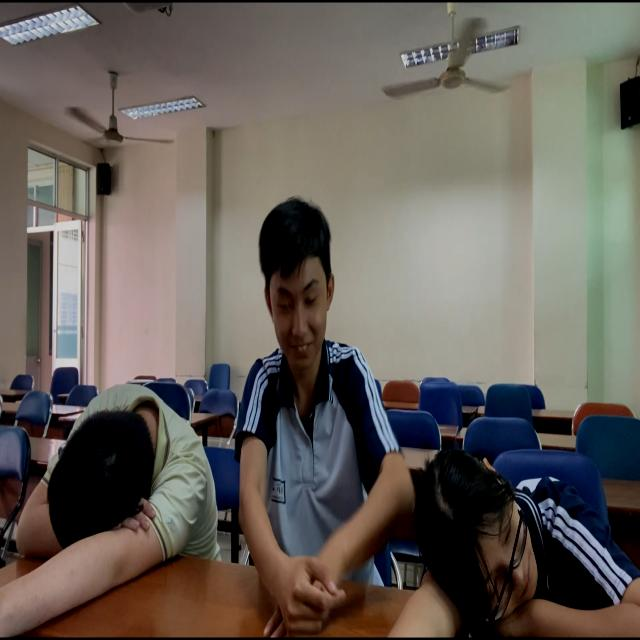sleep: (1, 372, 225, 640), (408, 428, 640, 640)
